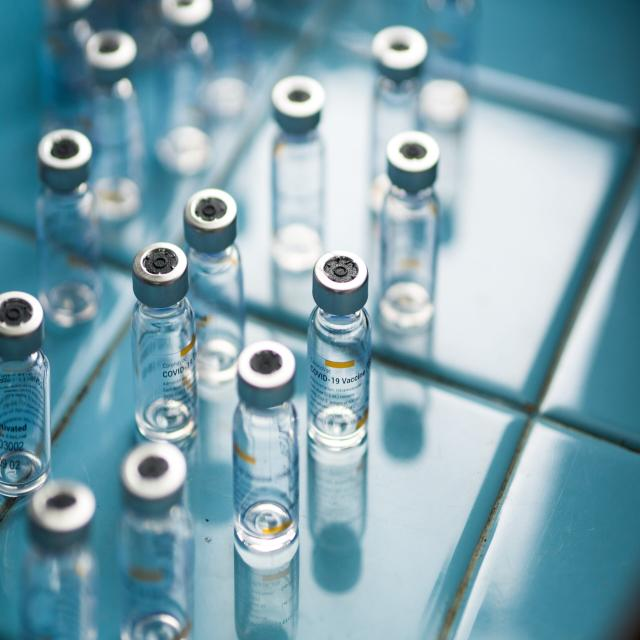vial: (38, 484, 102, 548), (132, 434, 188, 500), (241, 346, 309, 396), (0, 292, 46, 352), (276, 77, 329, 128), (190, 192, 242, 242), (388, 135, 442, 181), (319, 256, 381, 296), (134, 245, 190, 288), (40, 132, 92, 173), (84, 37, 136, 73), (378, 28, 423, 67), (162, 2, 204, 23)
